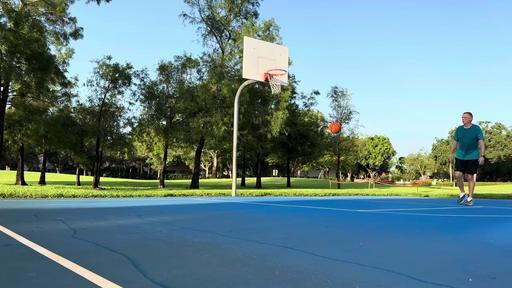ball: (329, 122, 341, 134)
human: (452, 112, 484, 206)
rim: (266, 70, 286, 94)
